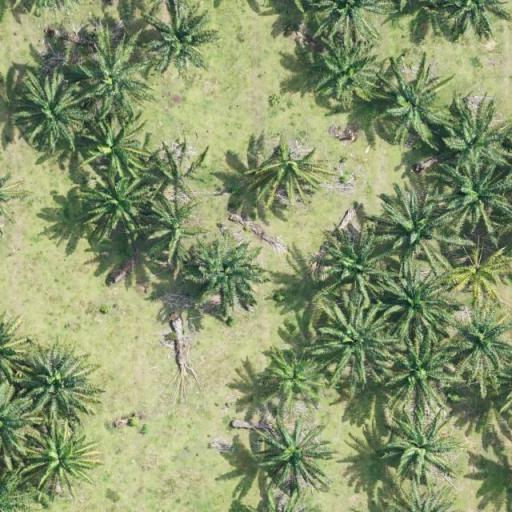Ganoderma: (262, 150, 318, 196), (34, 436, 82, 482), (457, 255, 502, 301), (272, 358, 315, 397)
